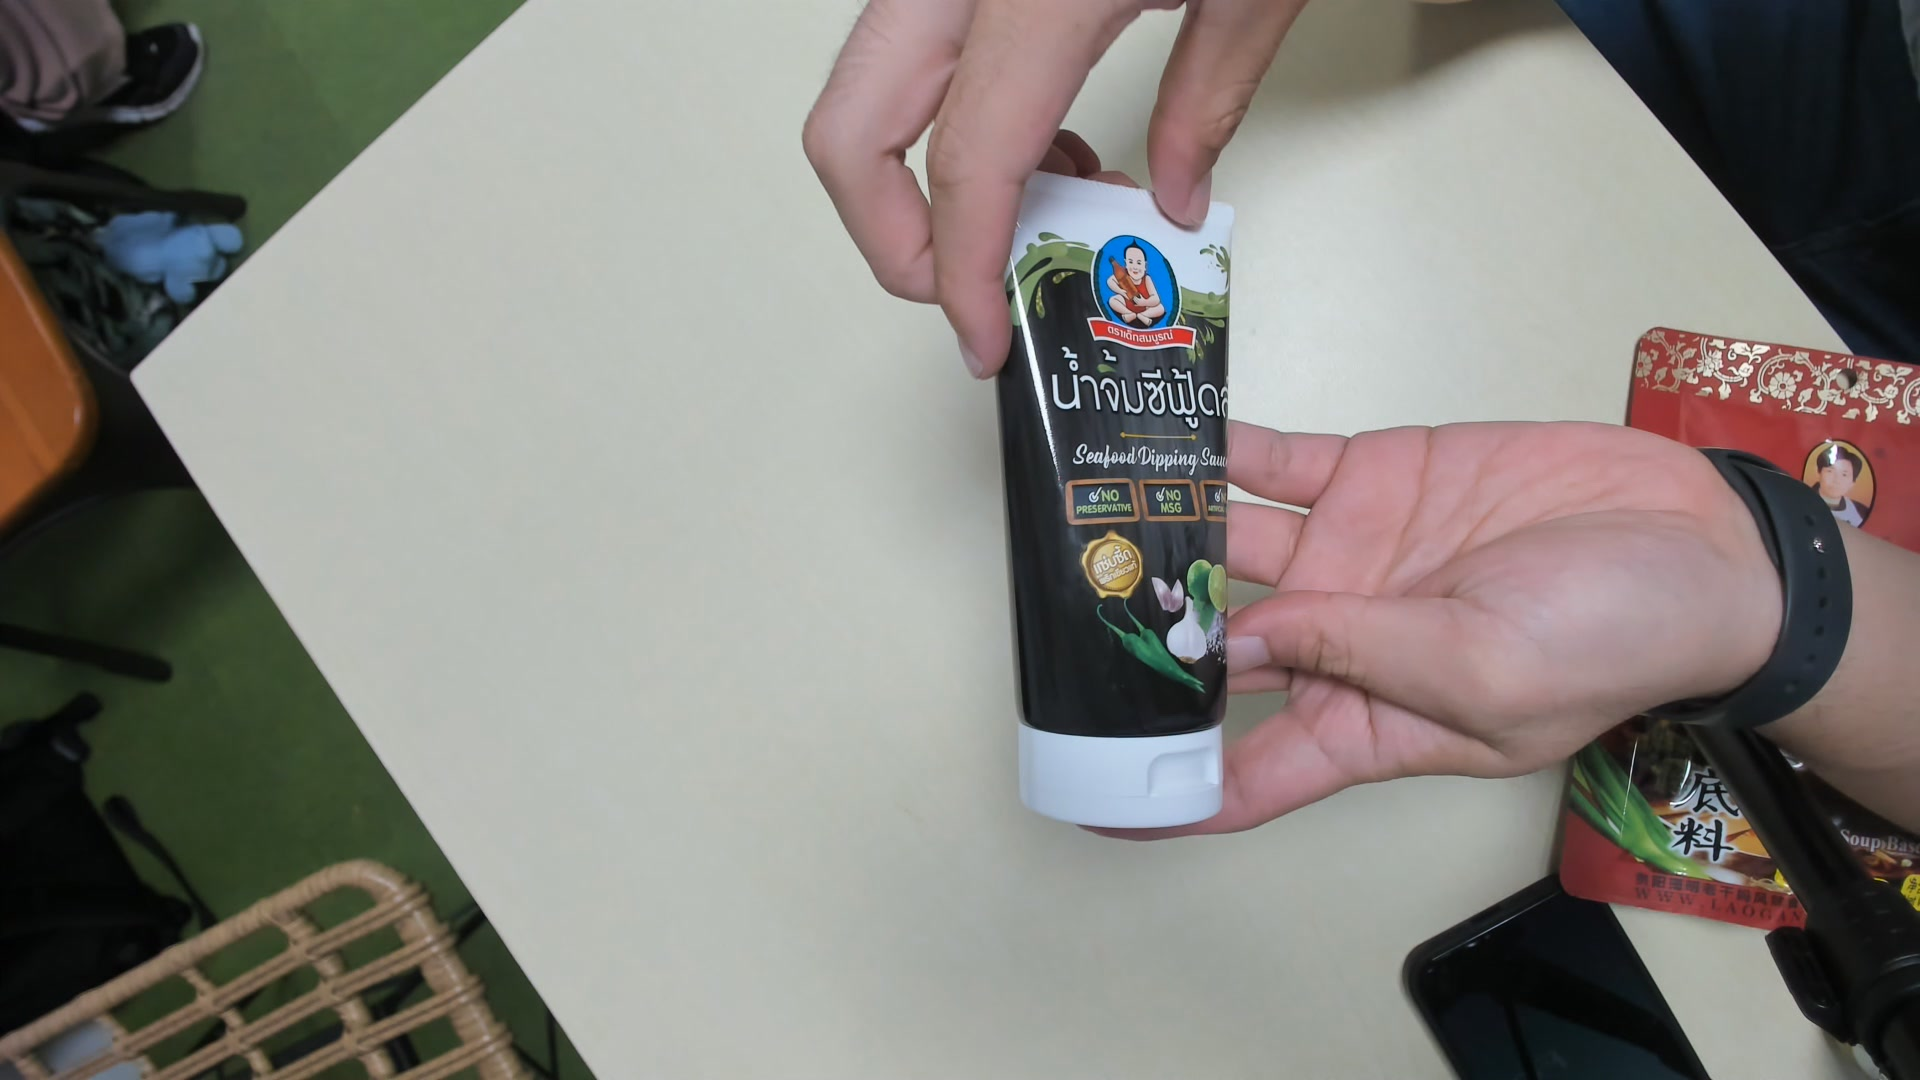OtherSauceDressing_100-199g_NonHalal_NonHealthy: (997, 166, 1236, 835)
